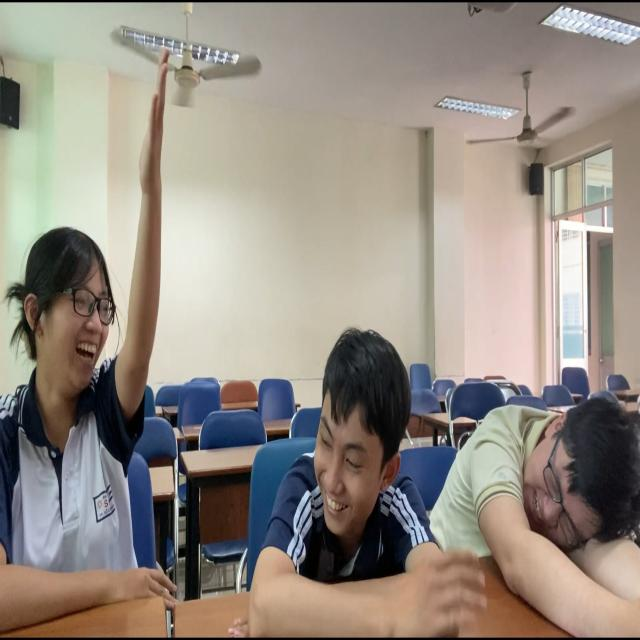raise_hand: (1, 44, 172, 640)
sleep: (438, 370, 640, 640)
